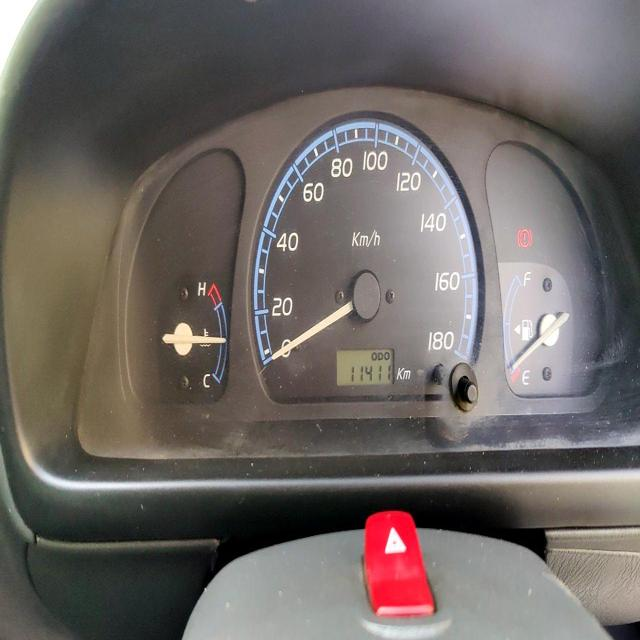odometer: (349, 364, 392, 384)
